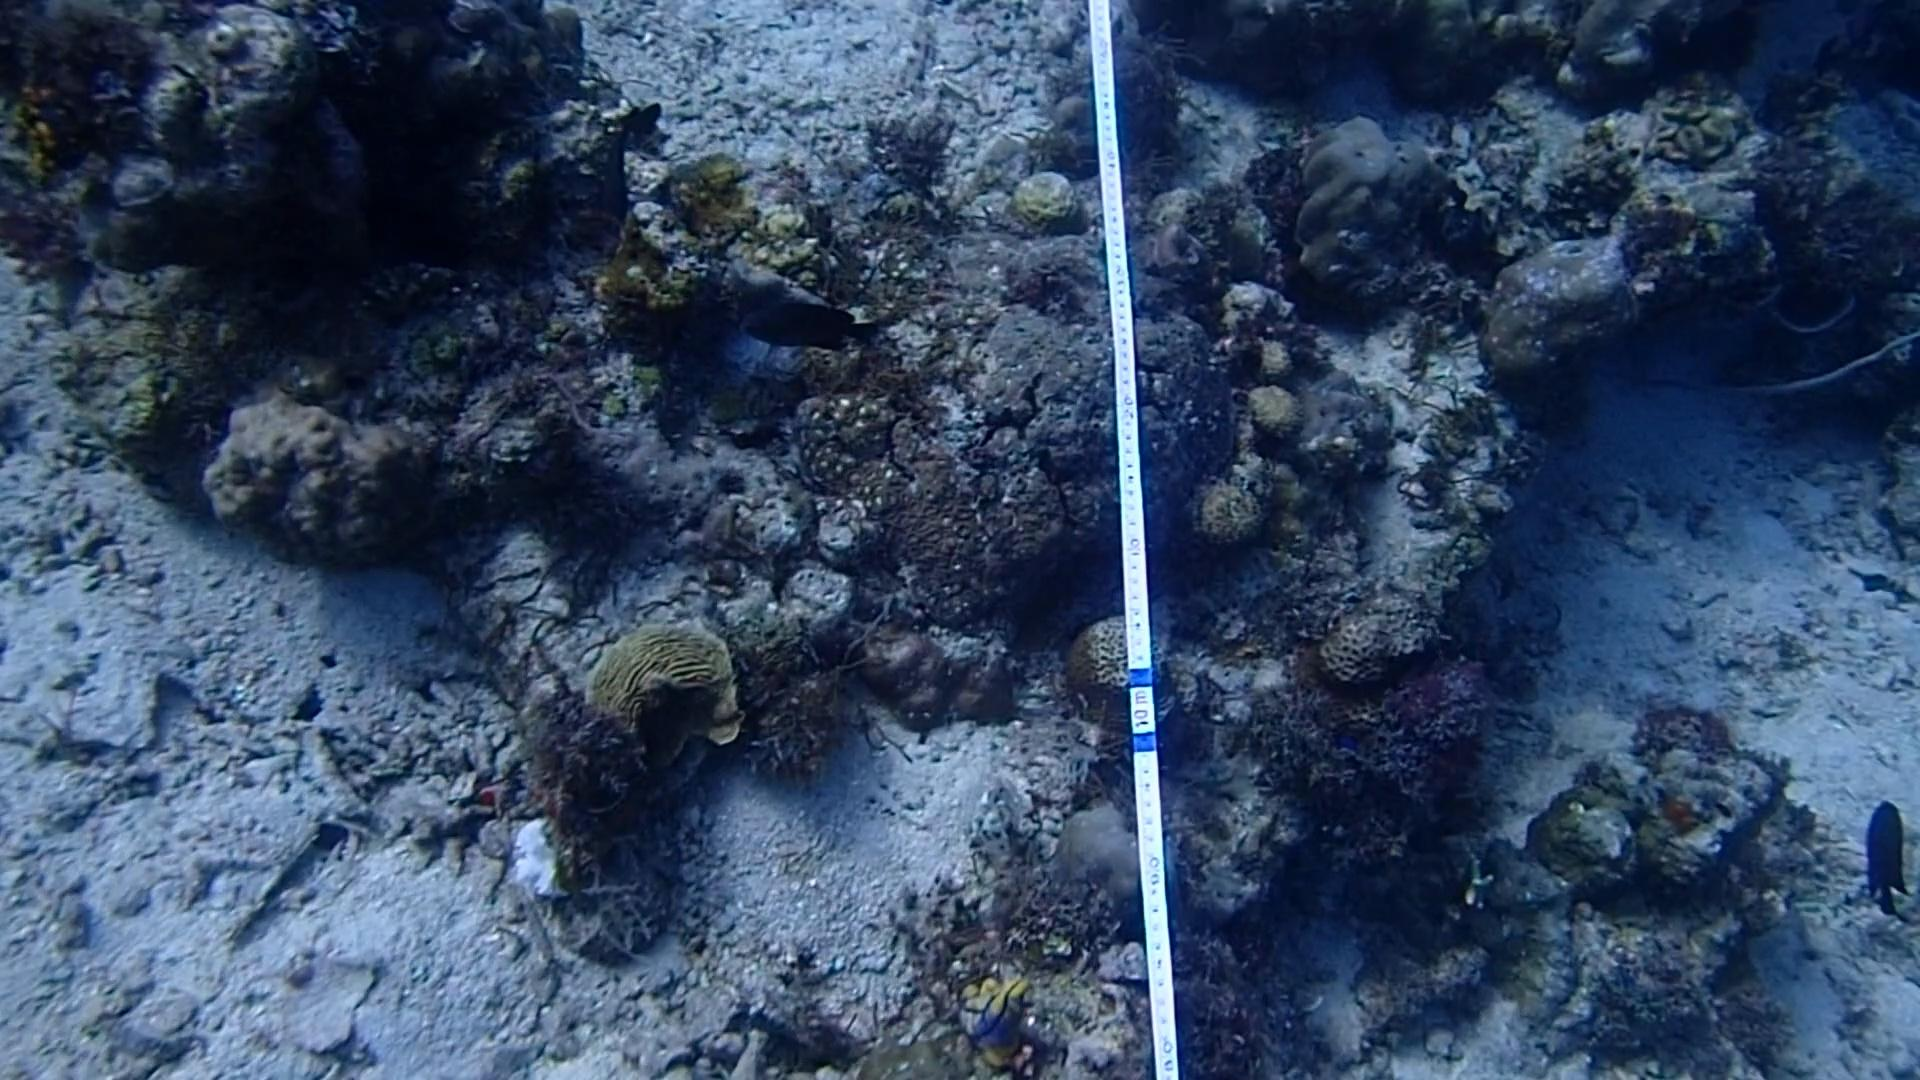Dark Fish: (731, 289, 881, 365), (1847, 786, 1920, 931)
